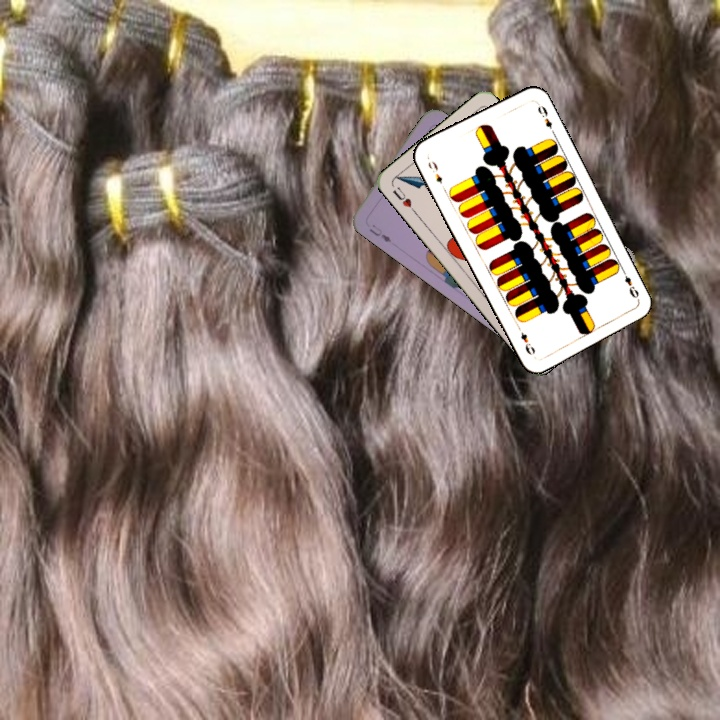E9: (618, 266, 641, 301), (424, 157, 445, 187)
EU: (365, 220, 394, 245)
HU: (388, 183, 419, 216)
